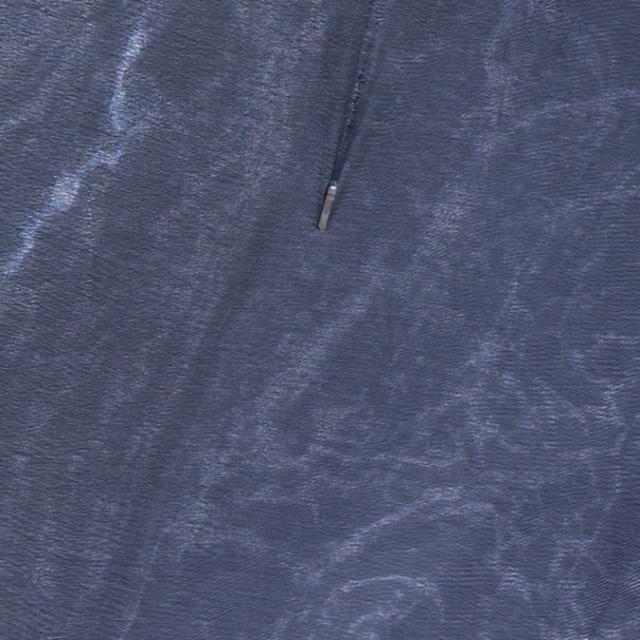Cargo: (316, 179, 341, 235)
